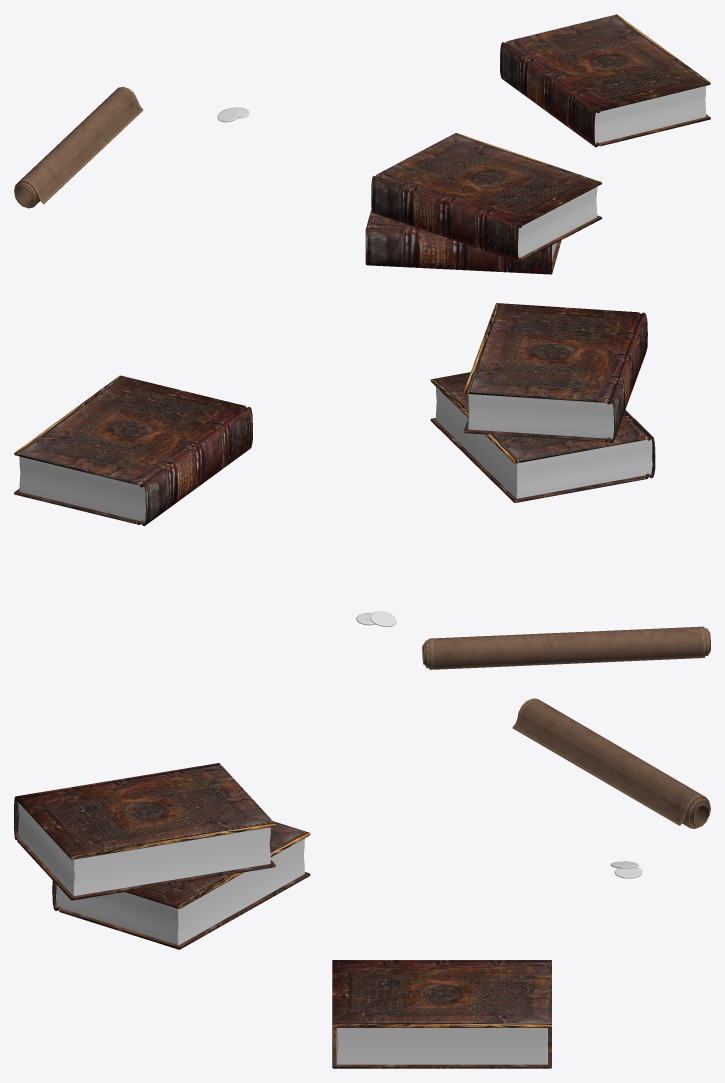
The picture shows the model from 3 angles, top to bottom: view 1: azimuth 30°, elevation 25°; view 2: azimuth 150°, elevation 25°; view 3: azimuth 270°, elevation 25°; orthographic projection. The views are drawn at different scales.
Parts seen in each view (by area): view 1: Old leather book.002, Old leather book, Old leather book.001, Leather roll long.002; view 2: Old leather book, Old leather book.002, Old leather book.001, Leather roll long.002; view 3: Old leather book.002, Old leather book, Old leather book.001, Leather roll long.002.
Part boxes in pixels (<box>): Old leather book.002: <box>371,133,601,262</box>; Old leather book: <box>500,14,710,147</box>; Old leather book.001: <box>365,209,561,274</box>; Leather roll long.002: <box>14,86,143,208</box>; Old leather book: <box>14,375,252,525</box>; Old leather book.002: <box>463,303,647,442</box>; Old leather book.001: <box>430,372,655,502</box>; Leather roll long.002: <box>422,626,710,669</box>; Old leather book.002: <box>14,763,275,900</box>; Old leather book: <box>332,960,551,1068</box>; Old leather book.001: <box>52,821,310,949</box>; Leather roll long.002: <box>512,698,710,828</box>.
Size of the model in its own units: 94.75 by 11.41 by 80.3.
4 materials, 2 textured.
